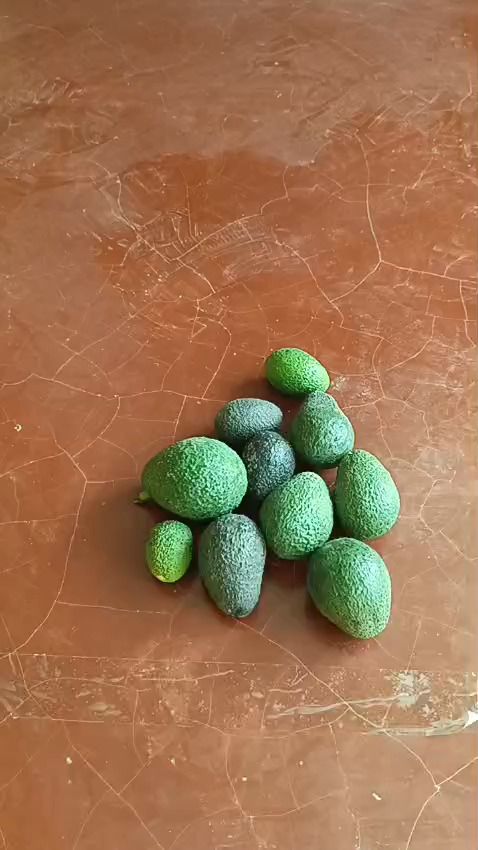Primera: (138, 436, 247, 520)
Segunda: (307, 537, 393, 637), (198, 513, 266, 617), (259, 471, 334, 559), (331, 449, 401, 540), (289, 391, 355, 468)
Tercera: (240, 429, 297, 504), (214, 397, 284, 448), (262, 345, 329, 396), (143, 518, 194, 582)
